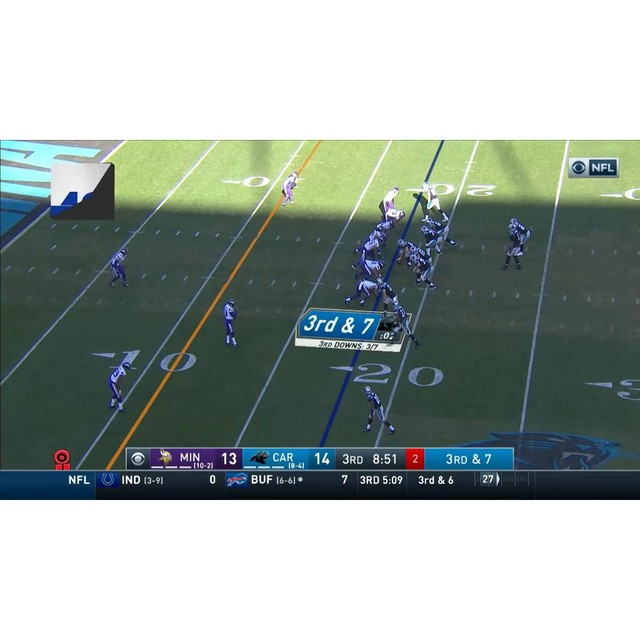american-football-player: (362, 385, 396, 434), (391, 300, 420, 348), (501, 221, 526, 271), (343, 276, 383, 307), (107, 360, 130, 411), (424, 215, 458, 248), (352, 237, 385, 271), (421, 183, 449, 221), (508, 215, 531, 255), (412, 253, 436, 289), (222, 297, 239, 347), (108, 248, 129, 288), (377, 277, 398, 314), (351, 258, 386, 280), (420, 224, 442, 256), (378, 187, 400, 217), (282, 171, 300, 206), (396, 239, 416, 267)
